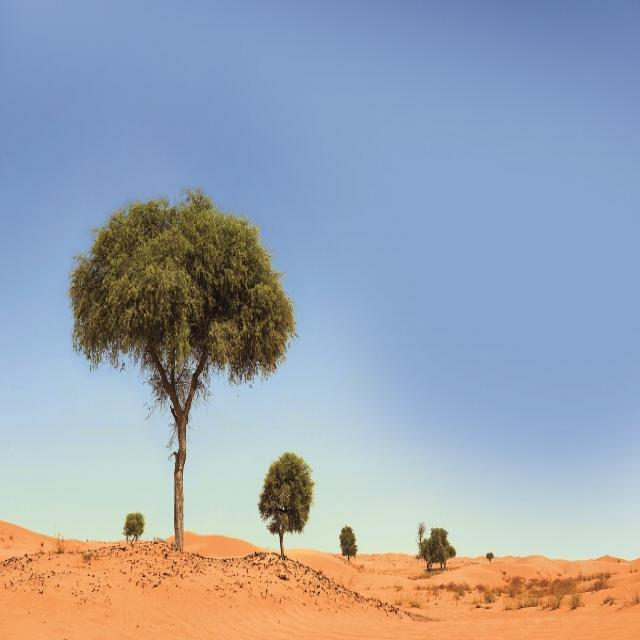tree: (68, 186, 292, 568), (257, 450, 315, 560), (418, 522, 458, 570), (123, 509, 145, 546), (339, 523, 357, 565), (486, 552, 494, 564)
